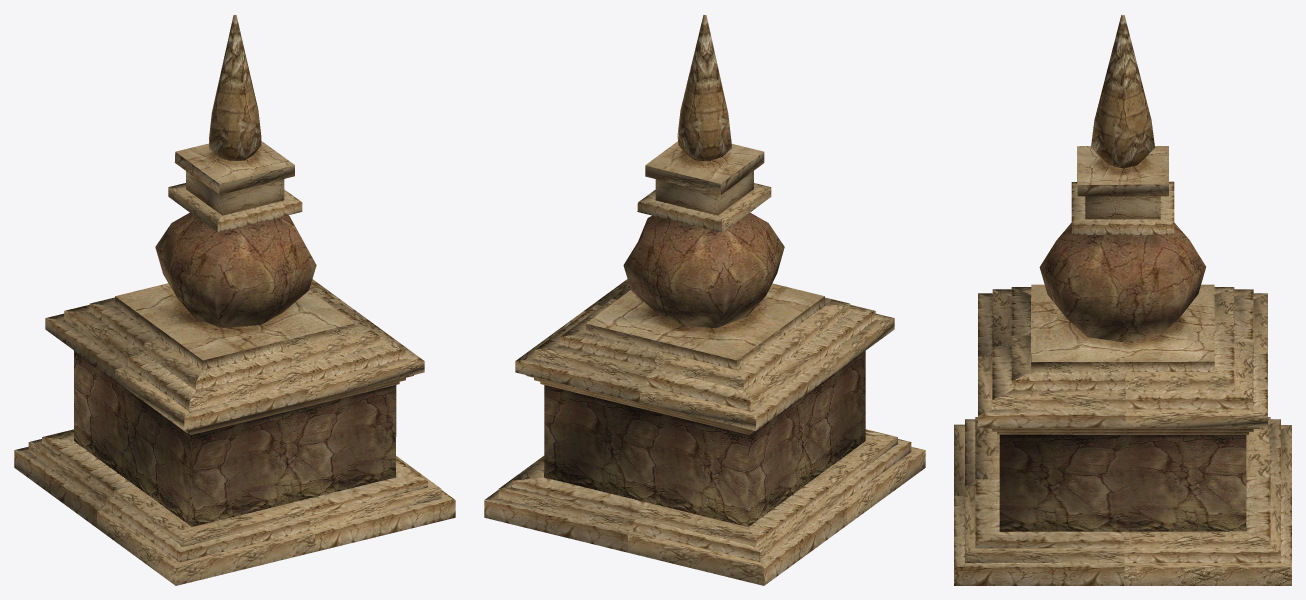
File: w_cd_ firetower001.glb
3 renders of one model, left to right at view 1: azimuth 30°, elevation 25°; view 2: azimuth 150°, elevation 25°; view 3: azimuth 270°, elevation 25°, orthographic. The views are drawn at different scales.
Visible parts, largest first — view 1: w_cd_ firetower001, w_cd_ firetower01_1, w_cd_ firetower01_2, w_cd_ firetower01_3; view 2: w_cd_ firetower001, w_cd_ firetower01_1, w_cd_ firetower01_2, w_cd_ firetower01_3; view 3: w_cd_ firetower001, w_cd_ firetower01_2, w_cd_ firetower01_1, w_cd_ firetower01_3.
Part boxes in pixels (box(x1,y1,x2,y2)): w_cd_ firetower001: box(74, 141, 396, 526); w_cd_ firetower01_1: box(14, 165, 441, 585); w_cd_ firetower01_2: box(14, 152, 455, 562); w_cd_ firetower01_3: box(209, 15, 261, 160); w_cd_ firetower001: box(544, 141, 865, 526); w_cd_ firetower01_1: box(485, 165, 925, 585); w_cd_ firetower01_2: box(484, 152, 911, 585); w_cd_ firetower01_3: box(677, 15, 731, 161); w_cd_ firetower001: box(999, 146, 1246, 531); w_cd_ firetower01_2: box(954, 182, 1291, 585); w_cd_ firetower01_1: box(954, 174, 1291, 585); w_cd_ firetower01_3: box(1091, 15, 1154, 168).
Size of the model in its own units: 19.66 by 32.1 by 19.66.
Materials: 4 (4 with a texture image).
